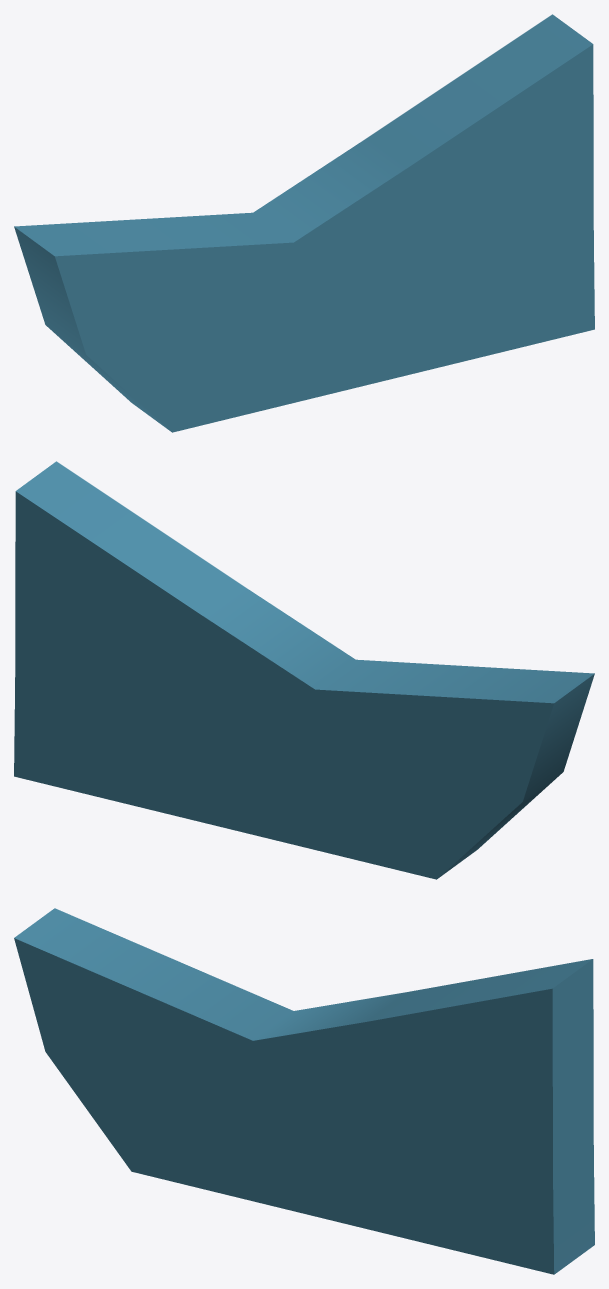
Rendered from NexusA_Trigger_33.fbx.
3 renders of one model, top to bottom at view 1: azimuth 30°, elevation 25°; view 2: azimuth 150°, elevation 25°; view 3: azimuth 330°, elevation 25°, orthographic.
Parts seen in each view (by area): view 1: pCube19; view 2: pCube19; view 3: pCube19.
Boxes of the visible parts, x1,y1,x2,y2 form: pCube19: [14, 14, 594, 432]; pCube19: [14, 461, 594, 879]; pCube19: [14, 908, 594, 1274].
Bounding box in the file's own units: 72.98 × 36.89 × 9.54.
